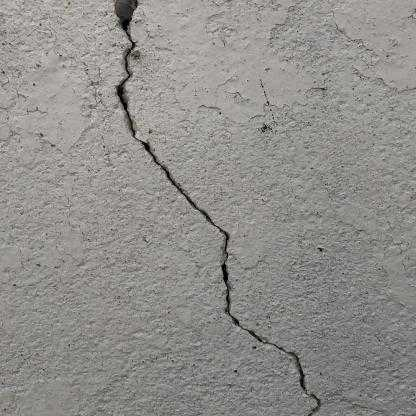crack: (117, 18, 320, 415)
